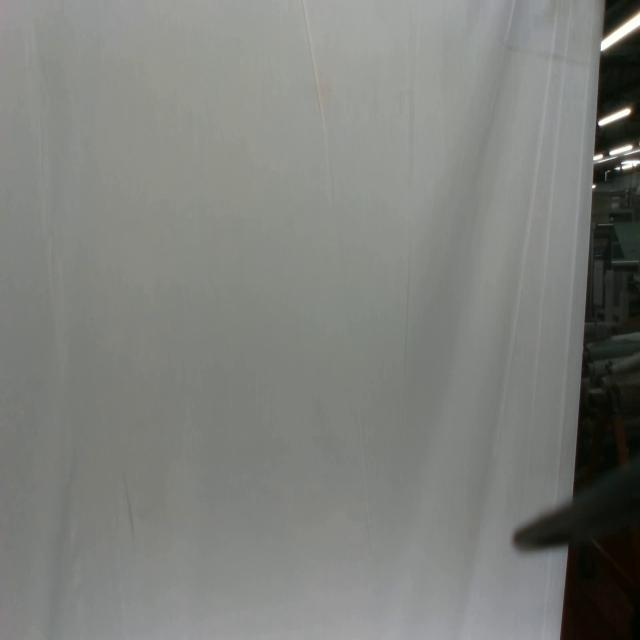crease: (486, 0, 599, 471), (299, 0, 326, 136)
